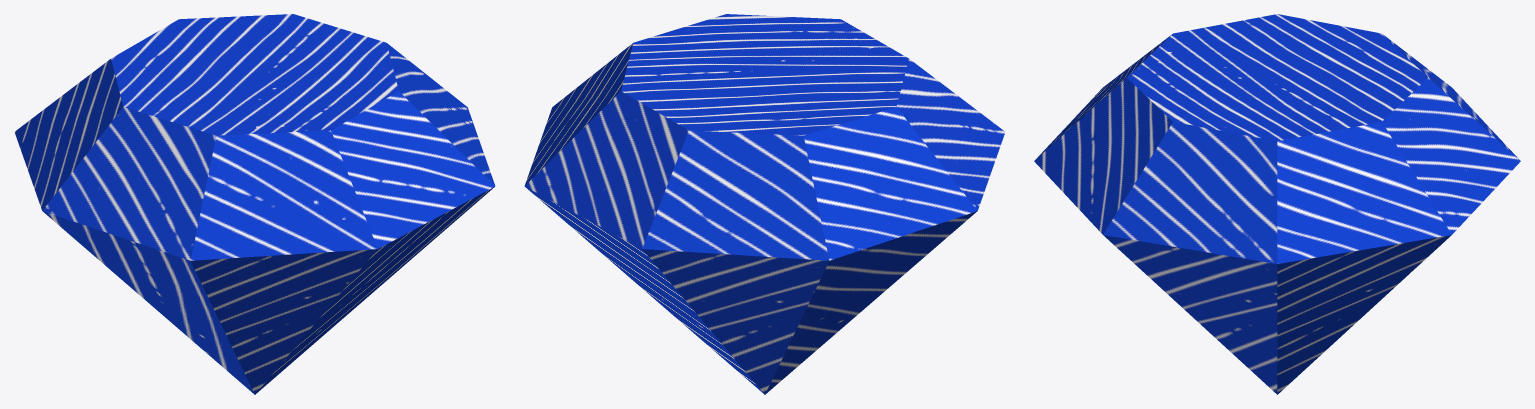
File: prize-LCusmxJw.glb
3 views of the same model, side by side, from view 1: azimuth 30°, elevation 25°; view 2: azimuth 150°, elevation 25°; view 3: azimuth 270°, elevation 25° (orthographic).
Parts seen in each view (by area): view 1: diamond; view 2: diamond; view 3: diamond.
Boxes of the visible parts, x1=… form: diamond: x1=14, y1=14, x2=495, y2=394; diamond: x1=524, y1=14, x2=1005, y2=394; diamond: x1=1034, y1=14, x2=1520, y2=394.
Size of the model in its own units: 1.23 by 0.8853 by 1.23.
Materials: 1 (1 with a texture image).
